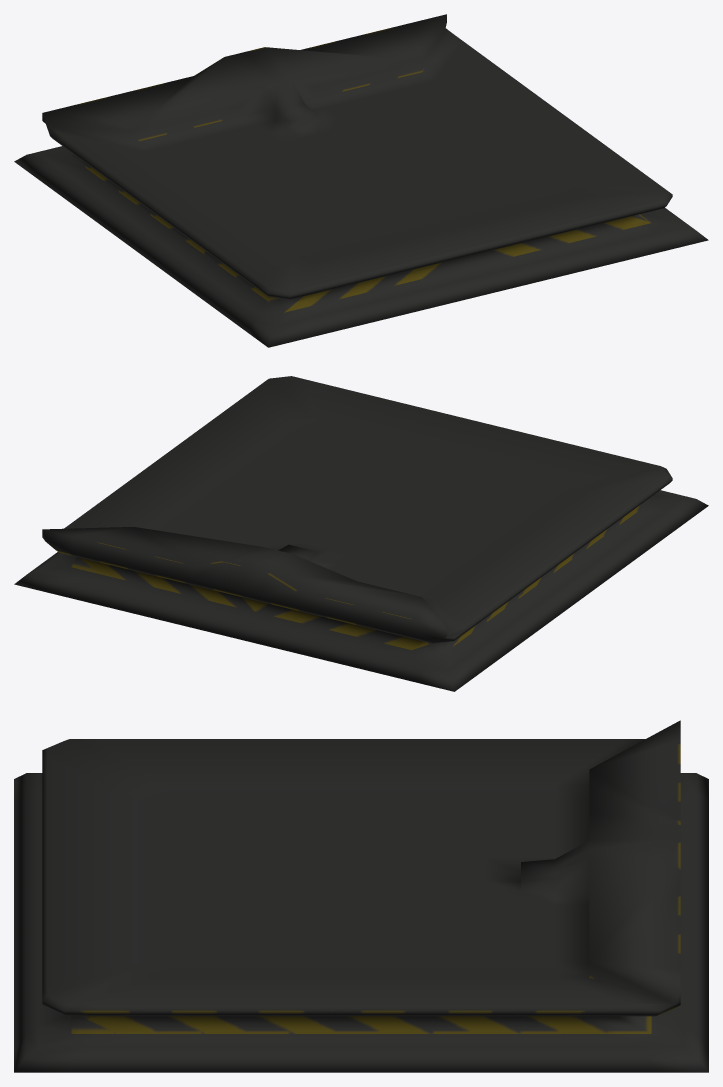
The model's file is winda.glb.
The picture shows the model from 3 angles, top to bottom: view 1: azimuth 30°, elevation 25°; view 2: azimuth 150°, elevation 25°; view 3: azimuth 270°, elevation 25°; orthographic projection. The views are drawn at different scales.
Parts seen in each view (by area): view 1: Cube; view 2: Cube; view 3: Cube.
Boxes of the visible parts, <box> form: Cube: <box>14,14,708,347</box>; Cube: <box>14,376,708,691</box>; Cube: <box>14,720,708,1072</box>.
Bounding box in the file's own units: 4 × 0.5499 × 4.
Materials: 1 (1 with a texture image).
